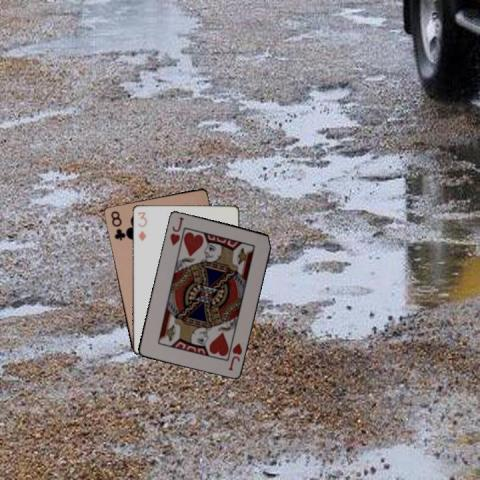3d: (135, 209, 148, 242)
8c: (108, 208, 126, 242)
Jh: (167, 214, 185, 247), (225, 340, 243, 372)
